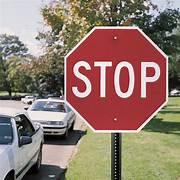stop: (64, 26, 169, 133)
